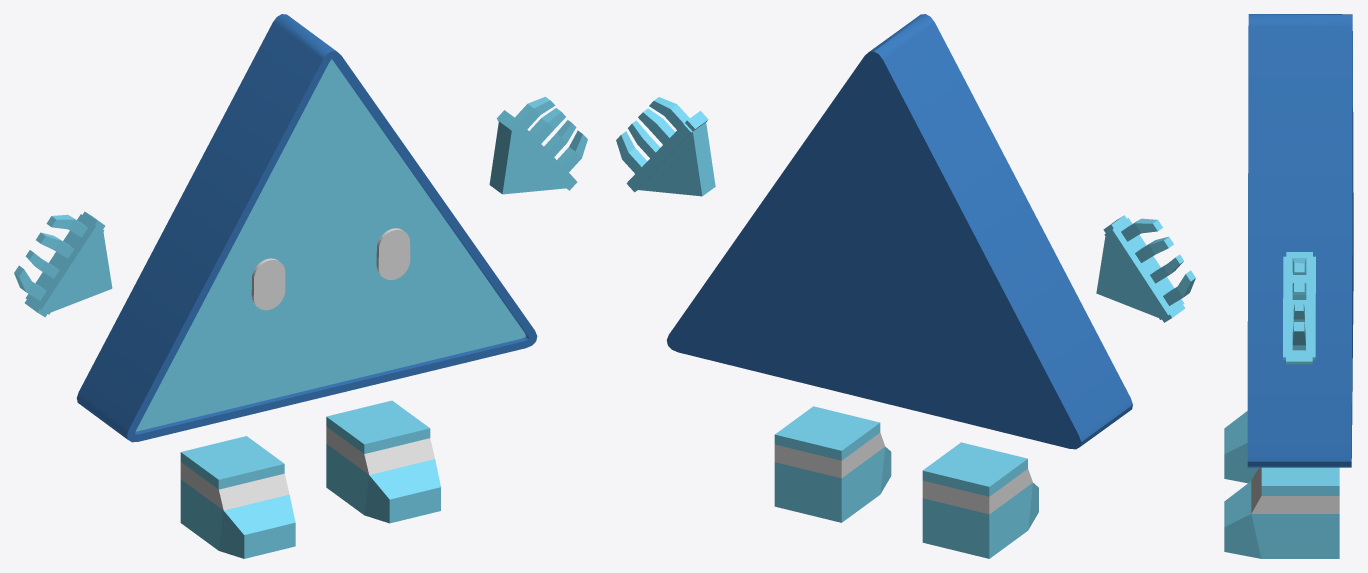
File: Neobot_Rotation.fbx
3 views of the same model, side by side, from view 1: azimuth 30°, elevation 25°; view 2: azimuth 150°, elevation 25°; view 3: azimuth 270°, elevation 25° (orthographic). The views are drawn at different scales.
Visible parts, largest first — view 1: Cube.007, Cube.009; view 2: Cube.007, Cube.009; view 3: Cube.007, Cube.009.
Boxes of the visible parts, x1,y1,x2,y2 form: Cube.007: (14, 14, 587, 442); Cube.009: (180, 400, 440, 558); Cube.007: (616, 14, 1195, 449); Cube.009: (774, 406, 1038, 558); Cube.007: (1247, 14, 1353, 467); Cube.009: (1224, 411, 1339, 558).
Size of the model in its own units: 79.07 by 63.66 by 15.19.
